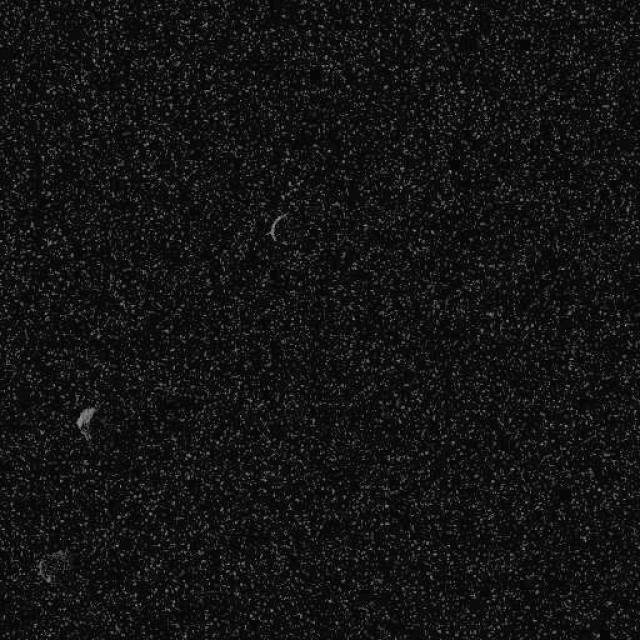D2: (35, 547, 71, 585), (74, 404, 98, 441), (265, 210, 289, 242)
